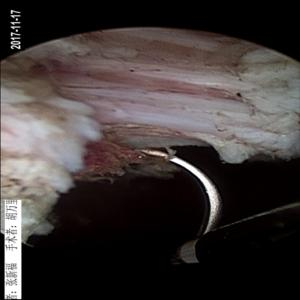film: (65, 27, 277, 150)
